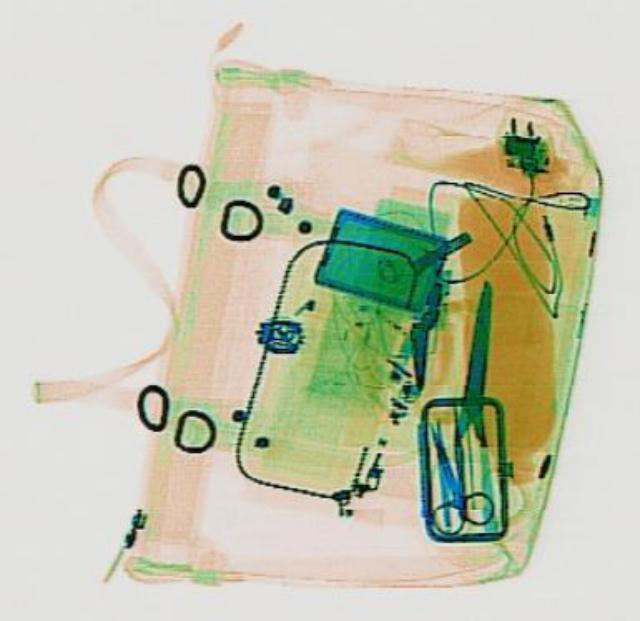Scissors: (399, 413, 498, 537)
